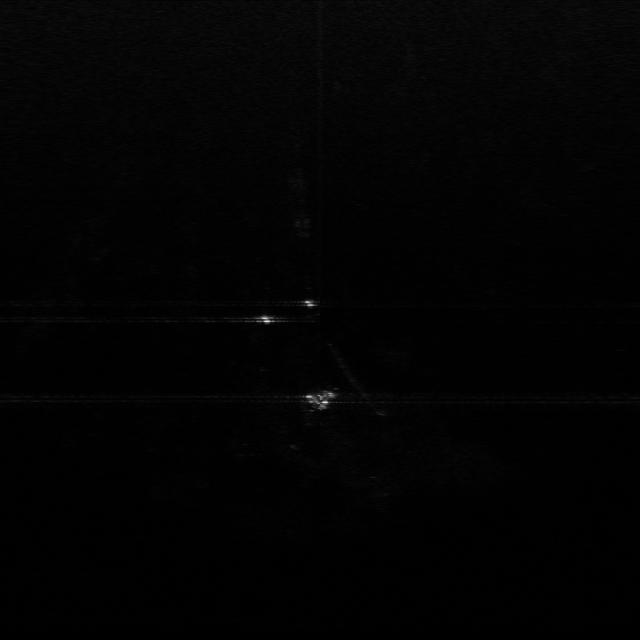rov: (300, 388, 340, 412)
